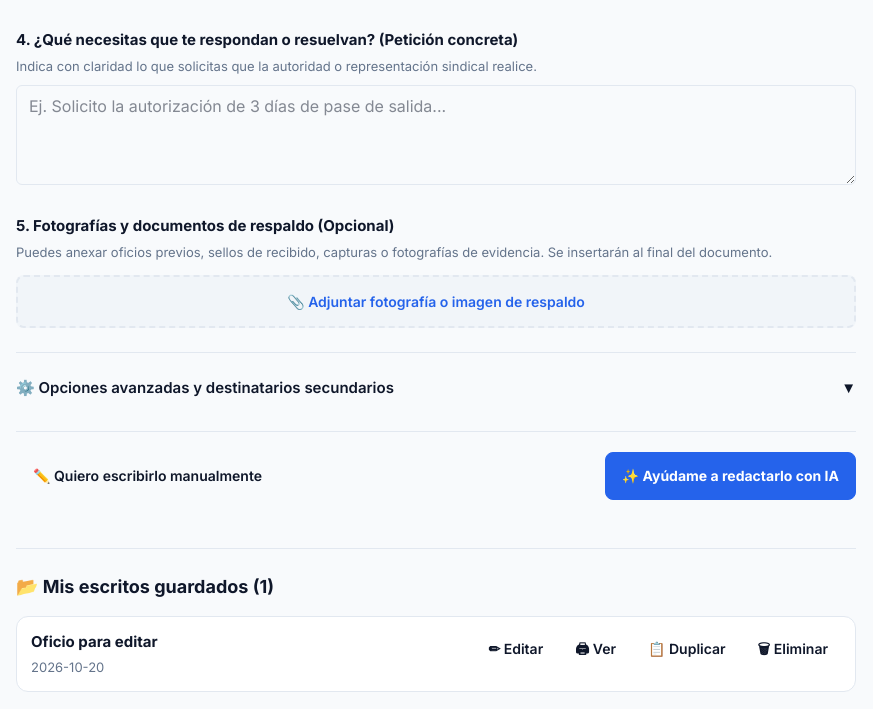
EscritosGenerator (Componente Principal con Auth y Protección de Cambios) › al pulsar 'Editar' abre el borrador en la etapa 2 de edición
(page scrolled)
Check: the text "Oficio para editar" is shown, box [31,632,158,651]
Step 1. Click the button "✏ Editar" → [516, 649], box [476,631,556,667]
(page scrolled)
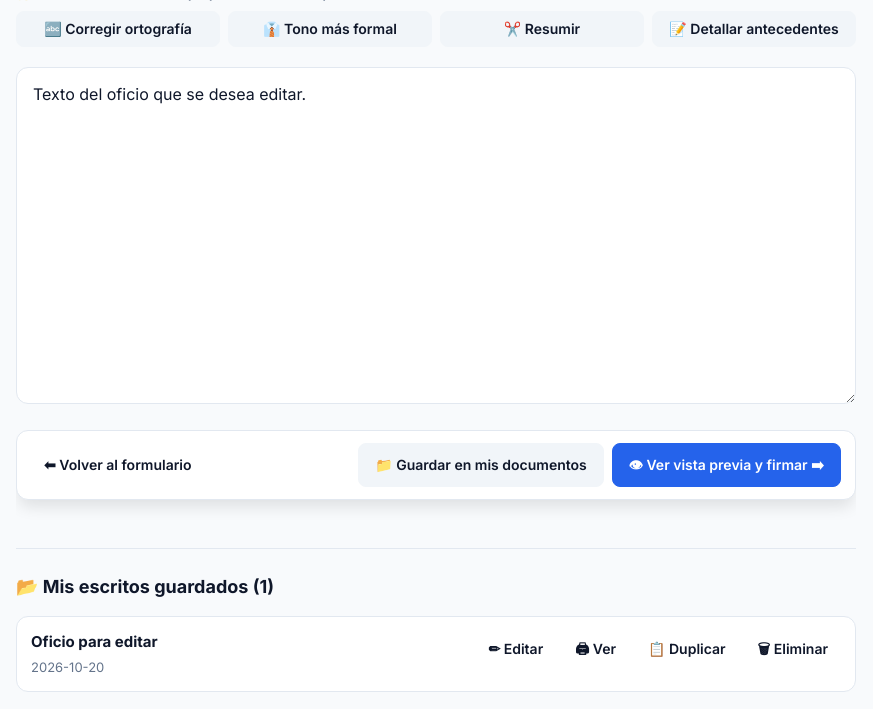
Check: the text box showing "Texto del oficio que se desea editar." is shown, box [16,67,856,404]
